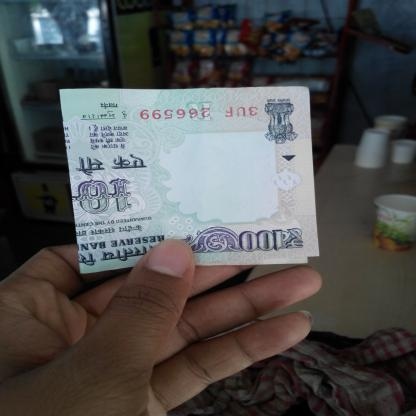Old100Front: (59, 86, 321, 274)
